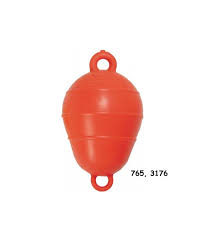buoy: (62, 71, 143, 175)
